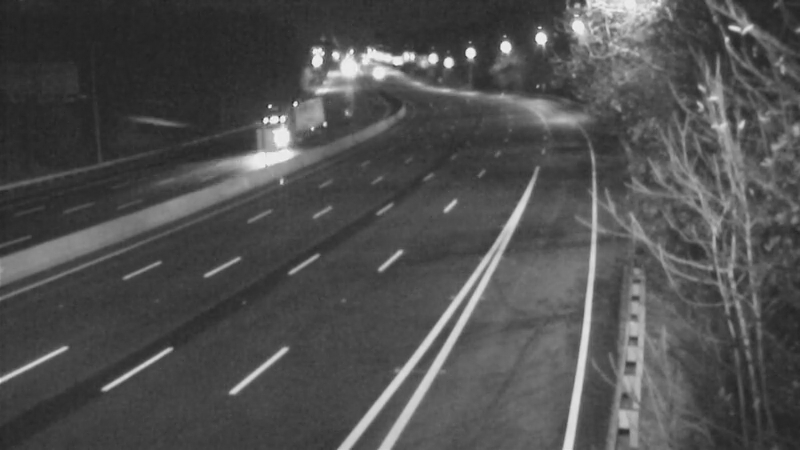vehicle: (354, 45, 404, 95), (259, 113, 309, 163)
